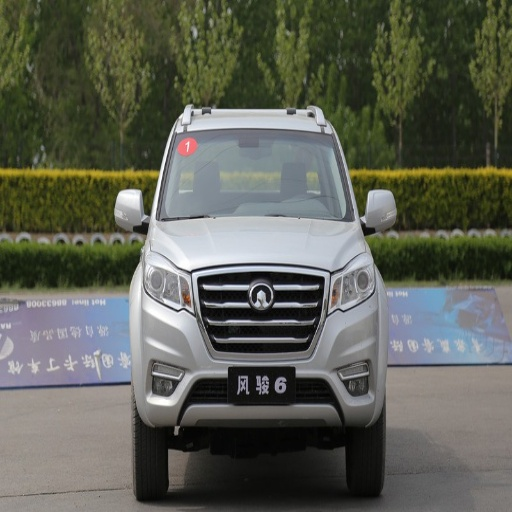front_bumper: (131, 270, 382, 427)
front_right_light: (143, 252, 191, 308)
hood: (150, 217, 365, 271)
left_mirror: (362, 189, 397, 232)
